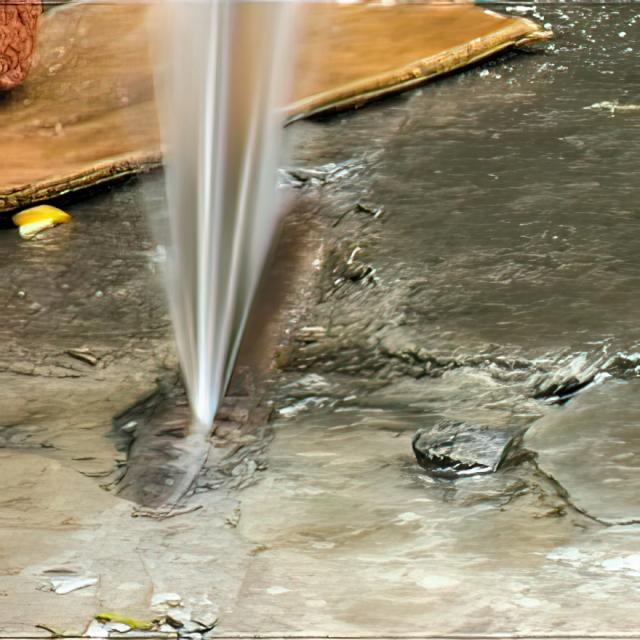leak: (125, 0, 349, 433)
